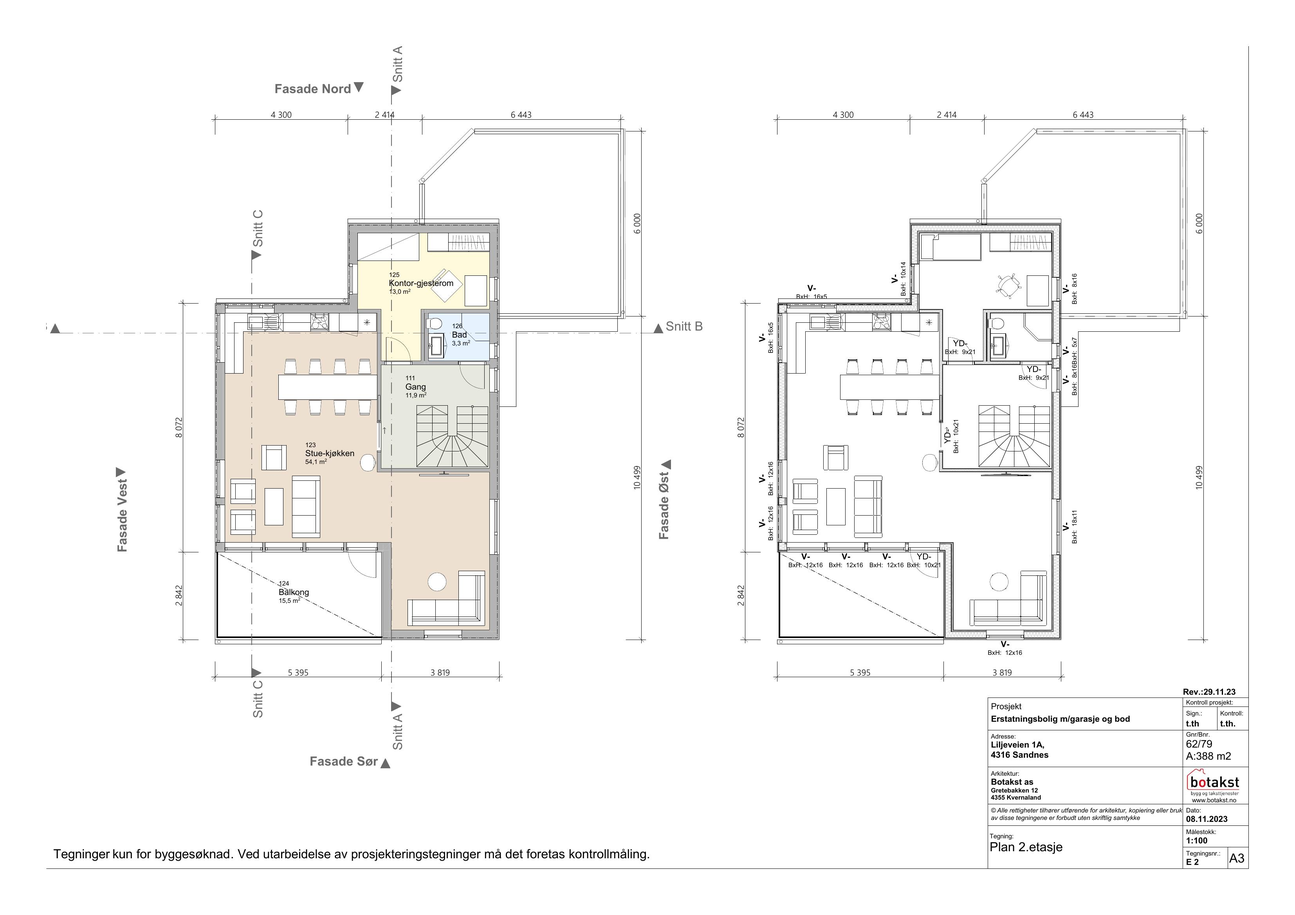plantegning: (213, 219, 503, 644)
